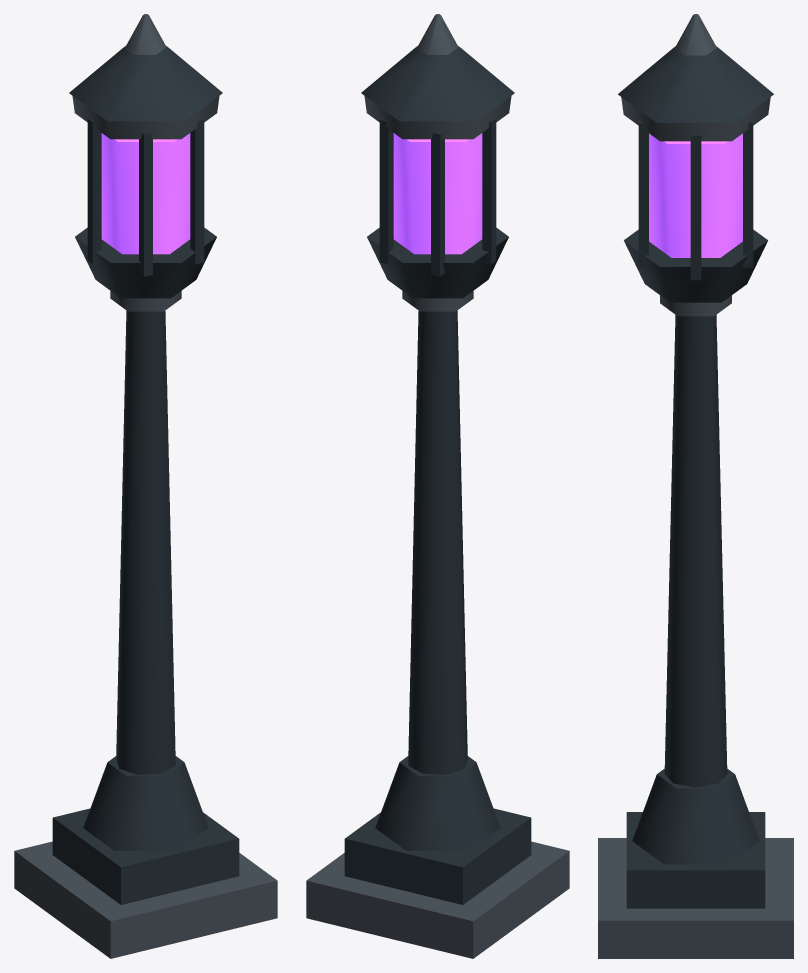
Rendered from Lantern_Violet.glb.
The picture shows the model from 3 angles, left to right: view 1: azimuth 30°, elevation 25°; view 2: azimuth 150°, elevation 25°; view 3: azimuth 270°, elevation 25°; orthographic projection.
Parts seen in each view (by area): view 1: Lantern_Violet; view 2: Lantern_Violet; view 3: Lantern_Violet.
Part boxes in pixels (box(x1,y1,x2,y2)): Lantern_Violet: box(14, 14, 277, 958); Lantern_Violet: box(306, 14, 569, 958); Lantern_Violet: box(598, 14, 793, 958).
Bounding box in the file's own units: 0.6293 × 3.2 × 0.6293.
